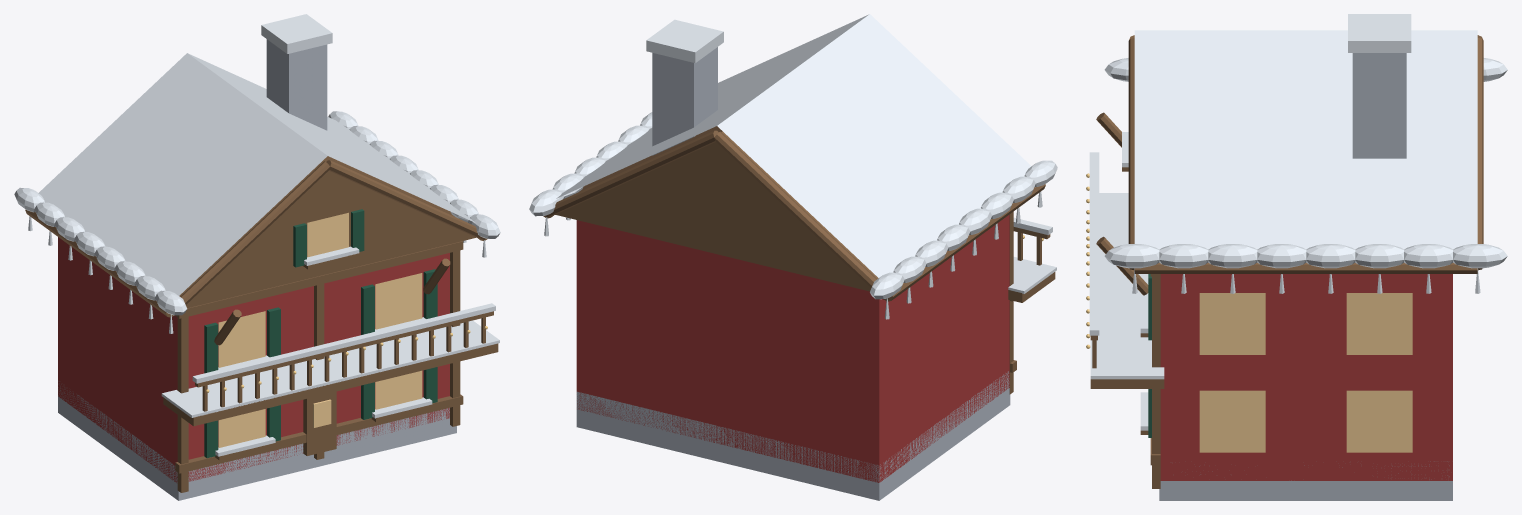
Rendered from chalet_b.glb.
3 views of the same model, side by side, from view 1: azimuth 30°, elevation 25°; view 2: azimuth 150°, elevation 25°; view 3: azimuth 270°, elevation 25° (orthographic). The views are drawn at different scales.
Parts seen in each view (by area): view 1: chalet_b_snow, chalet_b_wood, chalet_b_red, chalet_b_stone, chalet_b_window, chalet_b_green; view 2: chalet_b_red, chalet_b_snow, chalet_b_wood, chalet_b_stone; view 3: chalet_b_snow, chalet_b_red, chalet_b_window, chalet_b_stone, chalet_b_wood.
Boxes of the visible parts, x1,y1,x2,y2 form: chalet_b_snow: (14,14,500,456); chalet_b_wood: (25,156,498,492); chalet_b_red: (58,237,449,482); chalet_b_stone: (58,39,456,500); chalet_b_window: (218,212,422,447); chalet_b_green: (204,209,437,458); chalet_b_red: (576,214,1009,482); chalet_b_snow: (529,14,1057,319); chalet_b_wood: (543,126,1055,394); chalet_b_stone: (576,47,1010,500); chalet_b_snow: (1089,14,1507,430); chalet_b_red: (1160,274,1452,480); chalet_b_window: (1199,293,1412,452); chalet_b_stone: (1159,53,1452,500); chalet_b_wood: (1090,35,1483,488).
Bounding box in the file's own units: 19.14 × 19.48 × 17.23.
